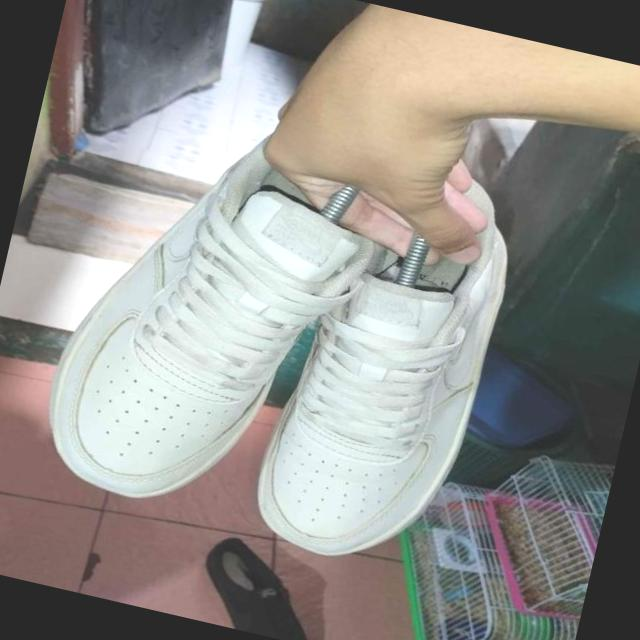nike_fake_airforce: (28, 82, 400, 540), (238, 155, 522, 580)
